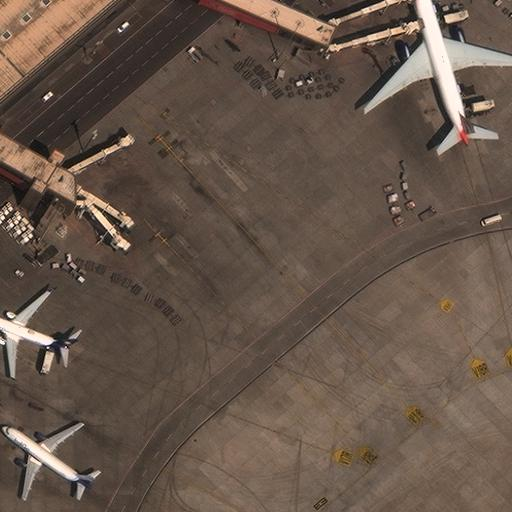Large Civil Transport: (362, 0, 511, 144)
Medium Civil Transport: (0, 422, 94, 499), (0, 291, 78, 376)
